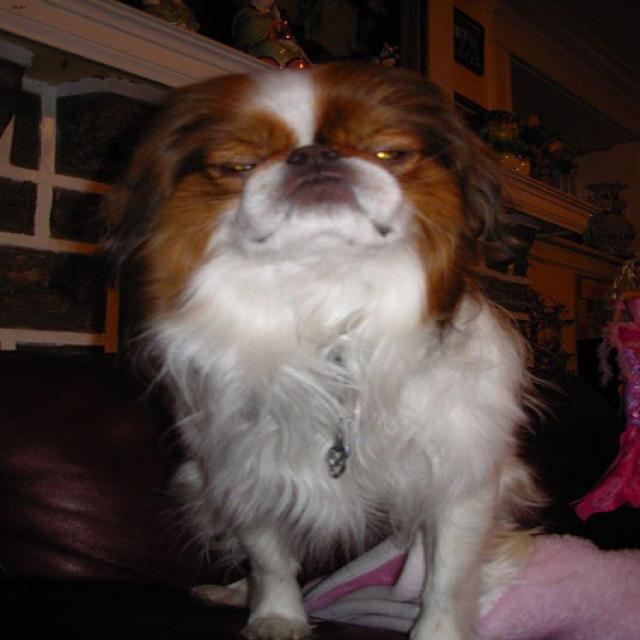dog-japanese_chin: (72, 50, 565, 637)
